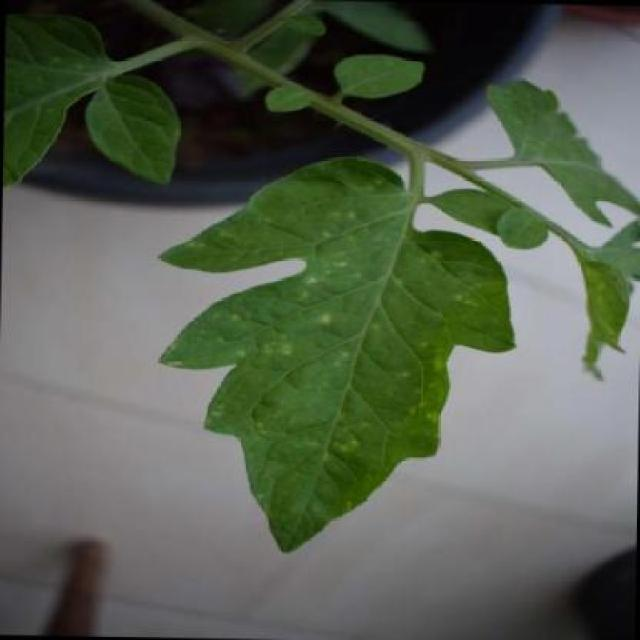Leaf Mold: (142, 156, 524, 573)
